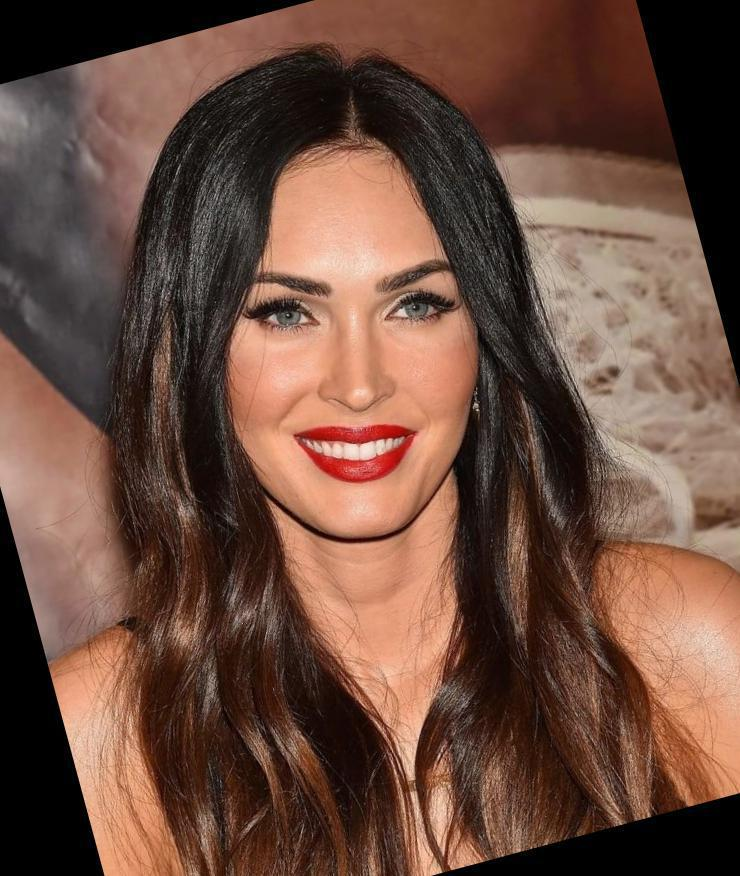Sober: (237, 166, 475, 537)
